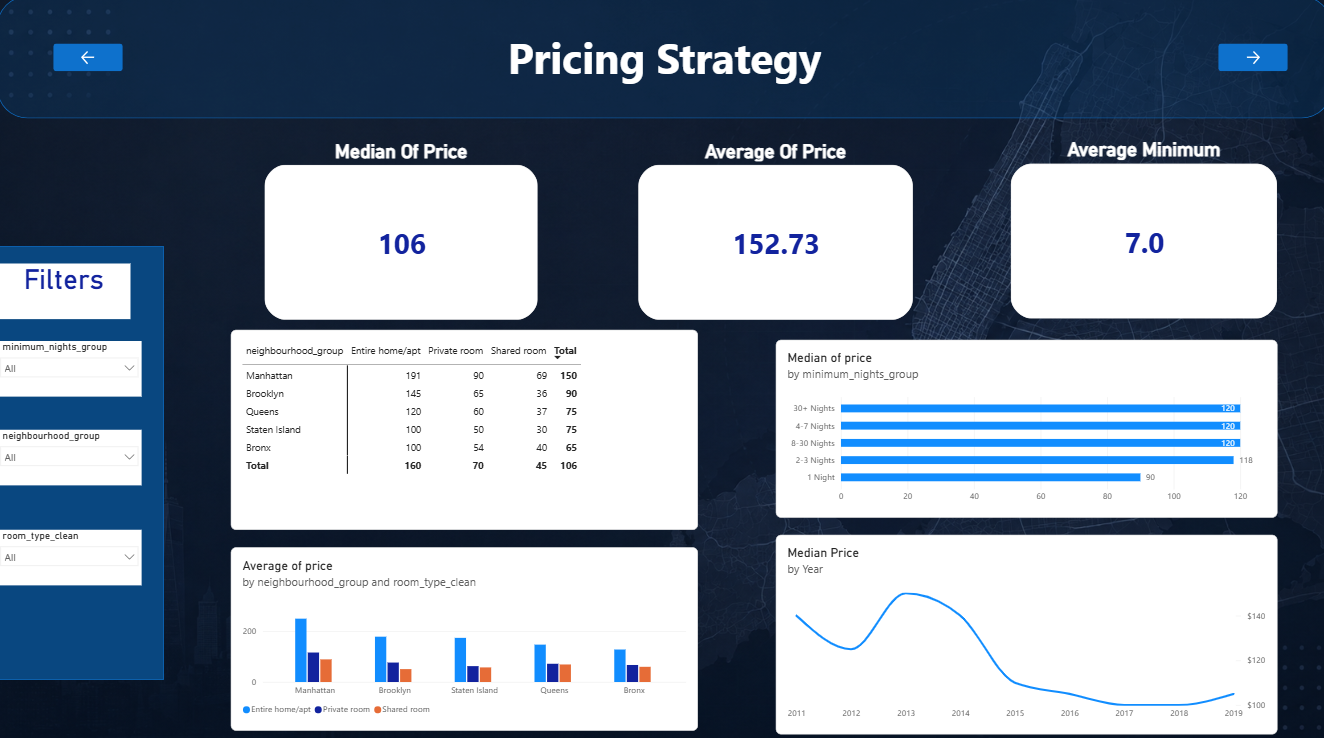

The dashboard page shown, as its layout file describes it:
{"tool":"powerbi","page":{"name":"pricing","canvas":[1920,1080],"ordinal":2},"visuals":[{"type":"image","box":[0,-8,1920,1088],"z":0},{"type":"shape","box":[0,360,240,624],"z":1000},{"type":"shape","box":[0,0,1920,176],"z":2000},{"type":"slicer","fields":{"Values":["NYC_Airbnb_Cleaned.neighbourhood_group"]},"box":[0,624,208,80],"z":3000},{"type":"slicer","fields":{"Values":["NYC_Airbnb_Cleaned.room_type_clean"]},"box":[0,768,208,80],"z":4000},{"type":"slicer","fields":{"Values":["NYC_Airbnb_Cleaned.minimum_nights_group"]},"box":[0,496,208,80],"z":5000},{"type":"cardVisual","title":"Median Of Price","fields":{"Data":["Median(NYC_Airbnb_Cleaned.price)"]},"box":[385,206.7,393.3,260],"z":6000},{"type":"cardVisual","title":"Average Of Price ","fields":{"Data":["Avg(NYC_Airbnb_Cleaned.price)"]},"box":[922.4,207.2,395,260],"z":7000},{"type":"cardVisual","title":"Average Minimum","fields":{"Data":["NYC_Airbnb_Cleaned.Average Minimum Nights"]},"box":[1458,205.7,383.3,260],"z":8000},{"type":"clusteredColumnChart","fields":{"Category":["NYC_Airbnb_Cleaned.neighbourhood_group"],"Series":["NYC_Airbnb_Cleaned.room_type_clean"],"Y":["Avg(NYC_Airbnb_Cleaned.price)"]},"box":[336,792,672,264],"z":9000},{"type":"pivotTable","fields":{"Columns":["NYC_Airbnb_Cleaned.room_type_clean"],"Rows":["NYC_Airbnb_Cleaned.neighbourhood_group"],"Values":["Median(NYC_Airbnb_Cleaned.price)"]},"box":[336,480,672,288],"z":10000},{"type":"barChart","fields":{"Category":["NYC_Airbnb_Cleaned.minimum_nights_group"],"Y":["Median(NYC_Airbnb_Cleaned.price)"]},"box":[1120,494.3,721.4,255.7],"z":11000},{"type":"actionButton","box":[81.3,69.1,100,40],"z":12000},{"type":"actionButton","box":[1755.8,69.1,100,40],"z":13000},{"type":"lineChart","fields":{"Category":["NYC_Airbnb_Cleaned.last_review.Variation.Date Hierarchy.Year"],"Y2":["NYC_Airbnb_Cleaned.Median Price"]},"box":[1120,775.7,721.4,287.1],"z":14000},{"type":"textbox","title":"Filters","box":[0,384,192,80],"z":14001}]}

Visuals, with their boxes in screenshot pixels (x1, y1, x2, y2), scaled from the page's 1920x1080 canvas onto the 1324x738 screenshot:
image: bbox=(0, 0, 1323, 737)
shape: bbox=(0, 246, 166, 672)
shape: bbox=(0, 0, 1323, 120)
slicer - NYC_Airbnb_Cleaned.neighbourhood_group: bbox=(0, 426, 143, 481)
slicer - NYC_Airbnb_Cleaned.room_type_clean: bbox=(0, 525, 143, 579)
slicer - NYC_Airbnb_Cleaned.minimum_nights_group: bbox=(0, 339, 143, 394)
"Median Of Price" cardVisual: bbox=(265, 141, 537, 319)
"Average Of Price " cardVisual: bbox=(636, 142, 908, 319)
"Average Minimum" cardVisual: bbox=(1005, 141, 1270, 318)
clusteredColumnChart - NYC_Airbnb_Cleaned.neighbourhood_group x NYC_Airbnb_Cleaned.room_type_clean: bbox=(232, 541, 695, 722)
pivotTable - NYC_Airbnb_Cleaned.room_type_clean x NYC_Airbnb_Cleaned.neighbourhood_group: bbox=(232, 328, 695, 525)
barChart - NYC_Airbnb_Cleaned.minimum_nights_group x Median(NYC_Airbnb_Cleaned.price): bbox=(772, 338, 1270, 512)
actionButton: bbox=(56, 47, 125, 75)
actionButton: bbox=(1211, 47, 1280, 75)
lineChart - NYC_Airbnb_Cleaned.last_review.Variation.Date Hierarchy.Year x NYC_Airbnb_Cleaned.Median Price: bbox=(772, 530, 1270, 726)
"Filters" textbox: bbox=(0, 262, 132, 317)
